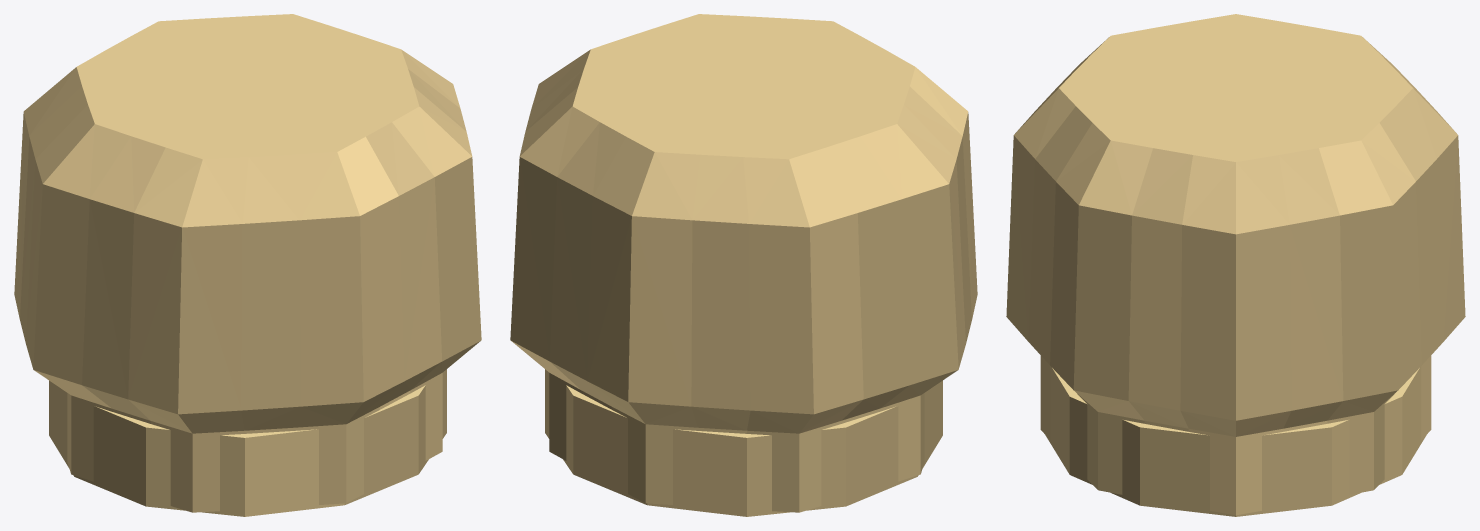
Rendered from EP_Hat_ChefToque.fbx.
3 renders of one model, left to right at view 1: azimuth 30°, elevation 25°; view 2: azimuth 150°, elevation 25°; view 3: azimuth 270°, elevation 25°, orthographic.
Visible parts, largest first — view 1: EP_Hat_ChefToque; view 2: EP_Hat_ChefToque; view 3: EP_Hat_ChefToque.
Boxes of the visible parts, left/top/right/bottom form: EP_Hat_ChefToque: left=14, top=14, right=481, bottom=516; EP_Hat_ChefToque: left=510, top=14, right=977, bottom=516; EP_Hat_ChefToque: left=1006, top=14, right=1465, bottom=516.
Size of the model in its own units: 0.2842 by 0.22 by 0.2654.
1 material, 1 textured.
